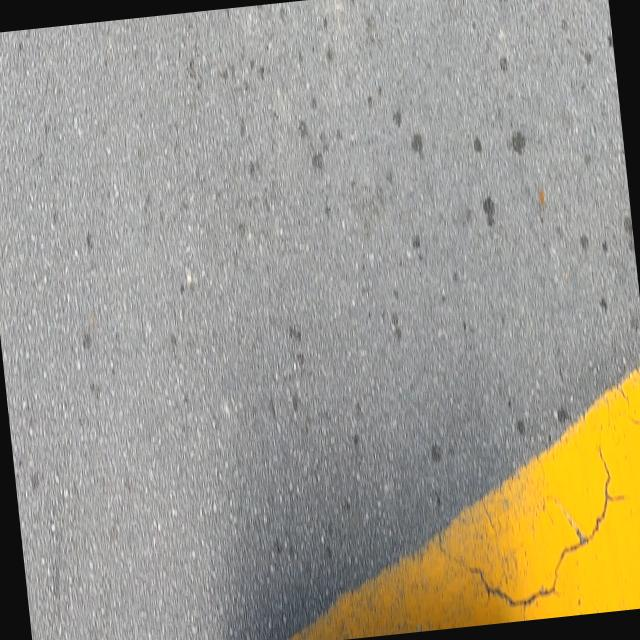Retak-Melintang: (466, 441, 614, 612)
